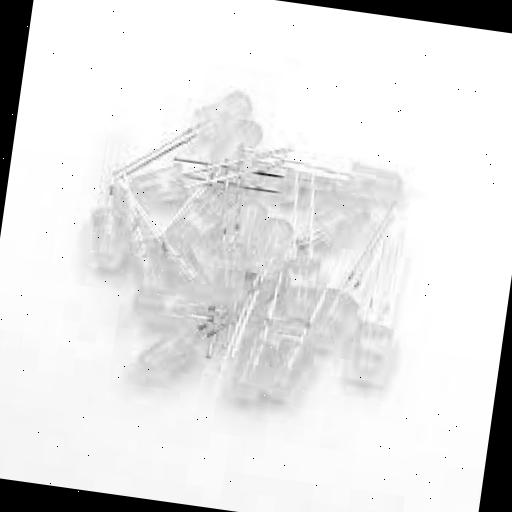LED: (66, 68, 429, 422)
